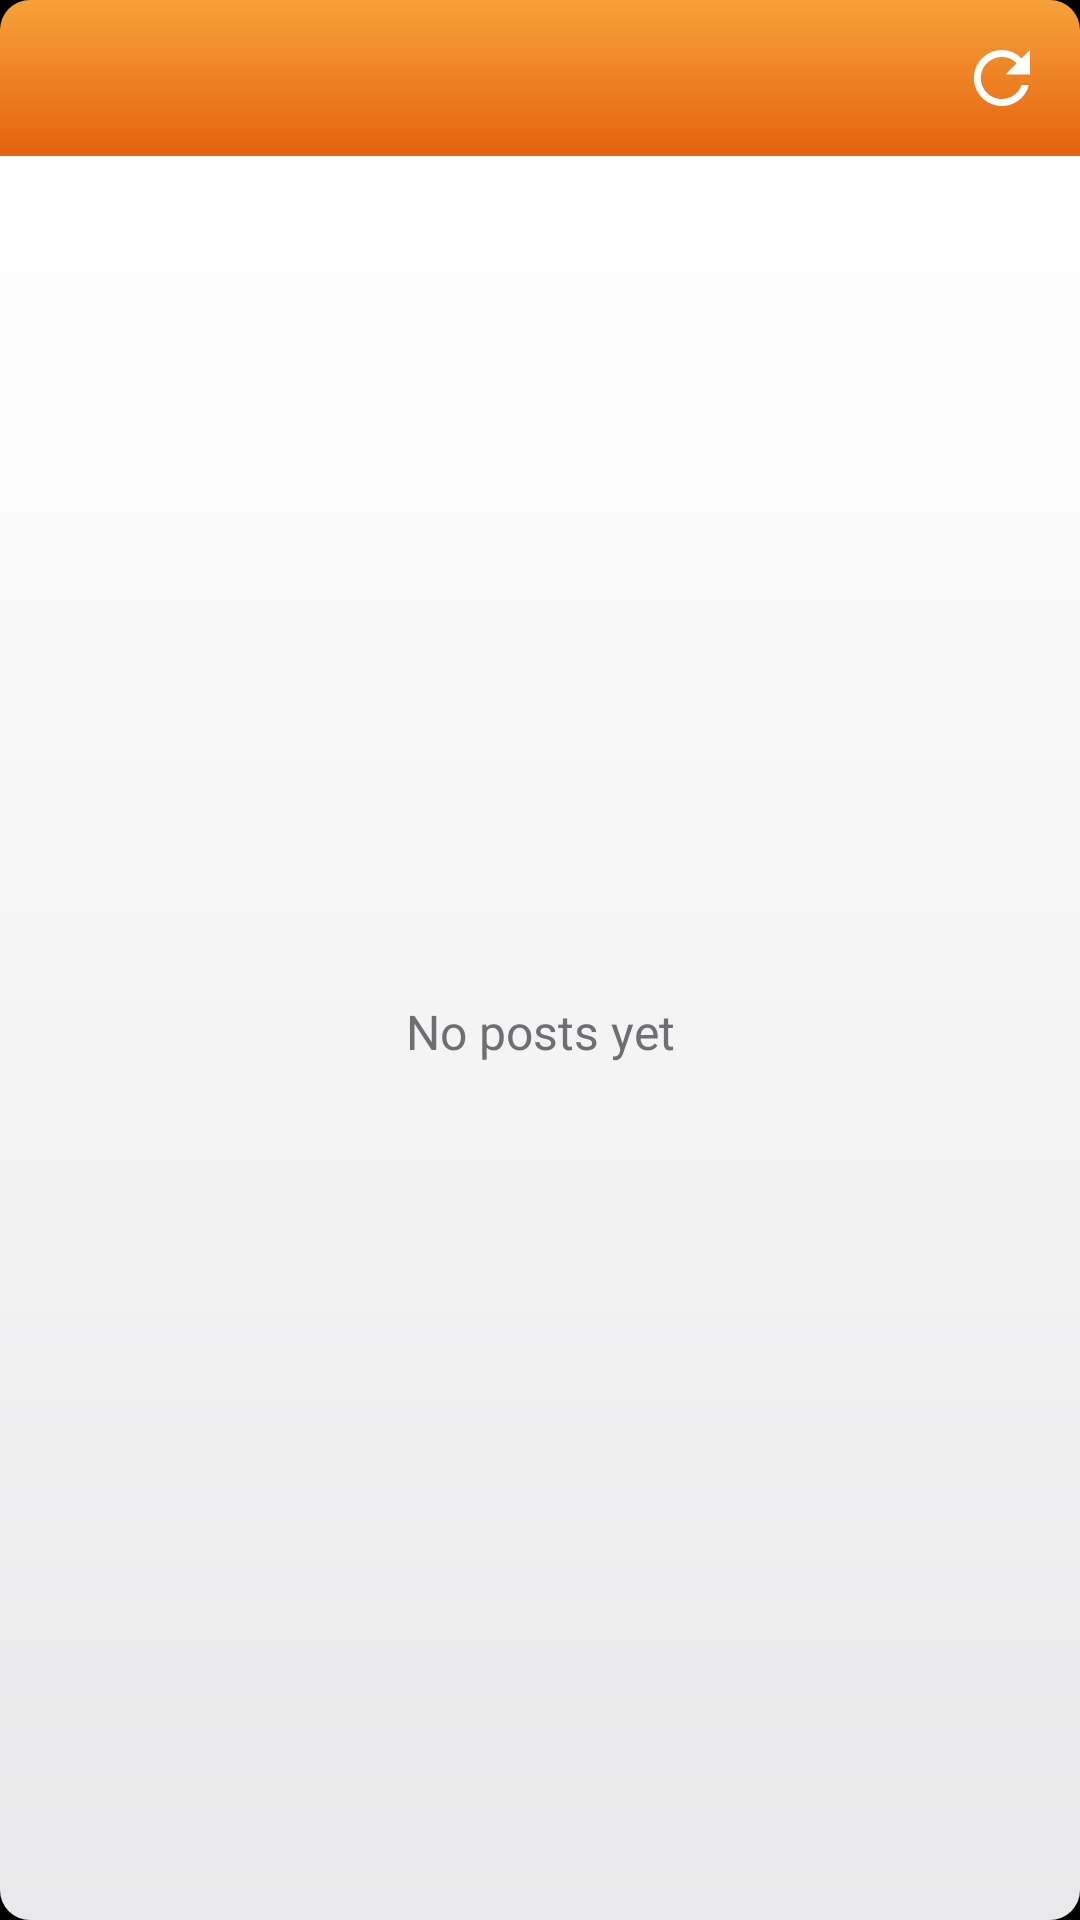

Where to tap for icons on this 1080px×1920px app screen, as (x=x, y=y):
Refresh: (x=1002, y=78)
